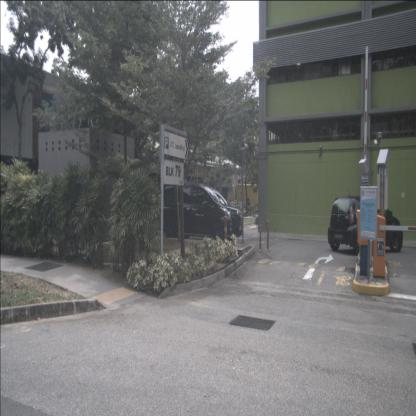human-pedestrian-adult: (246, 198, 251, 216)
vehicle-car: (327, 196, 403, 256), (167, 182, 244, 241), (158, 183, 232, 242)
